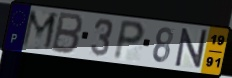3: (89, 17, 116, 59)
8: (151, 26, 175, 64)
B: (49, 11, 86, 57)
M: (19, 8, 60, 54)
N: (174, 27, 209, 70)
P: (111, 18, 147, 62)
